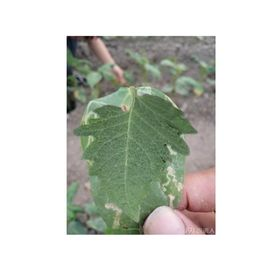liriomyza: (161, 165, 183, 208), (104, 202, 124, 229), (80, 99, 98, 126), (85, 134, 93, 148)
